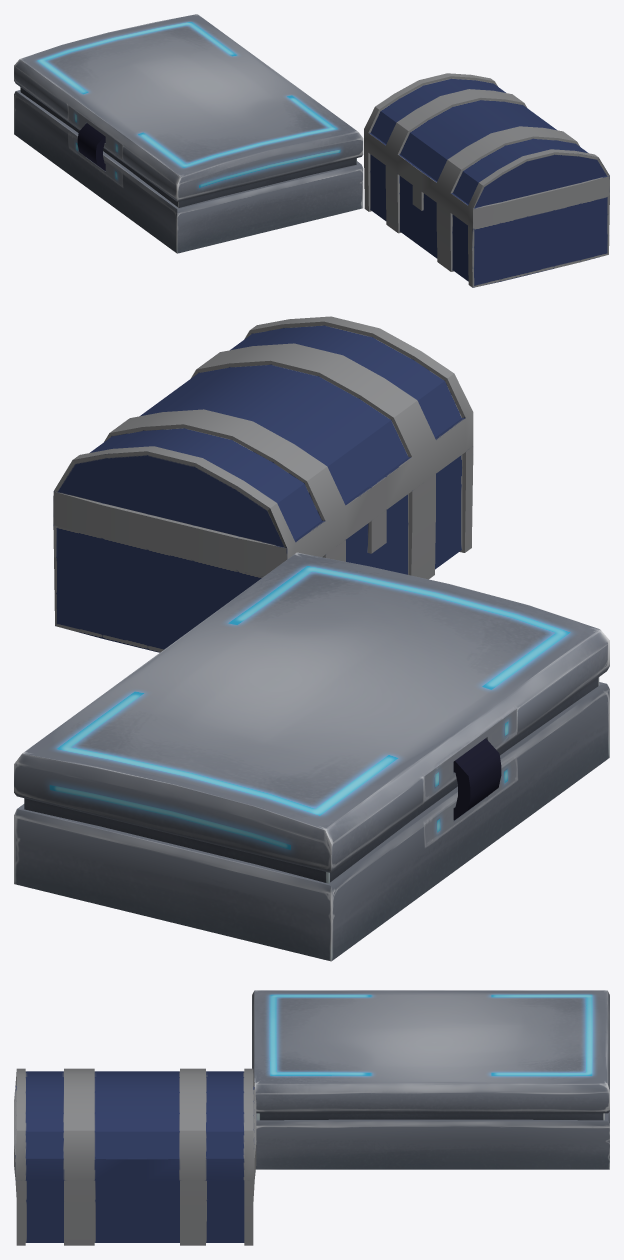
The model's file is loot chests.FBX.
The picture shows the model from 3 angles, top to bottom: view 1: azimuth 30°, elevation 25°; view 2: azimuth 150°, elevation 25°; view 3: azimuth 270°, elevation 25°; orthographic projection. The views are drawn at different scales.
Parts seen in each view (by area): view 1: chest, wood chest, handle; view 2: chest, wood chest, handle; view 3: chest, wood chest.
Part boxes in pixels (x1,y1,x2,y2): chest: [14, 14, 363, 253]; wood chest: [364, 73, 609, 287]; handle: [77, 123, 105, 170]; chest: [14, 552, 609, 961]; wood chest: [53, 316, 473, 652]; handle: [453, 738, 501, 820]; chest: [252, 990, 609, 1169]; wood chest: [14, 1068, 256, 1245].
Bounding box in the file's own units: 71.34 × 23.72 × 101.
Materials: 3 (2 with a texture image).
